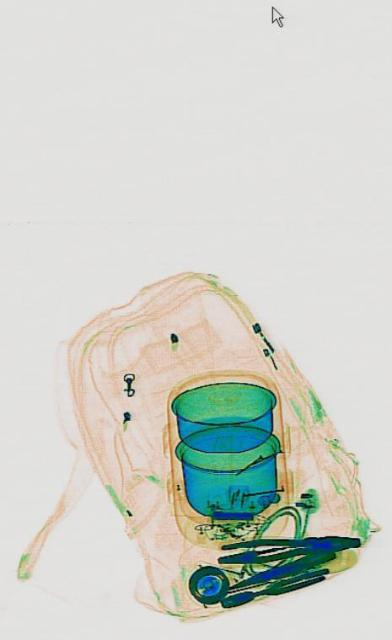Pliers: (217, 560, 328, 612), (215, 528, 358, 566)
